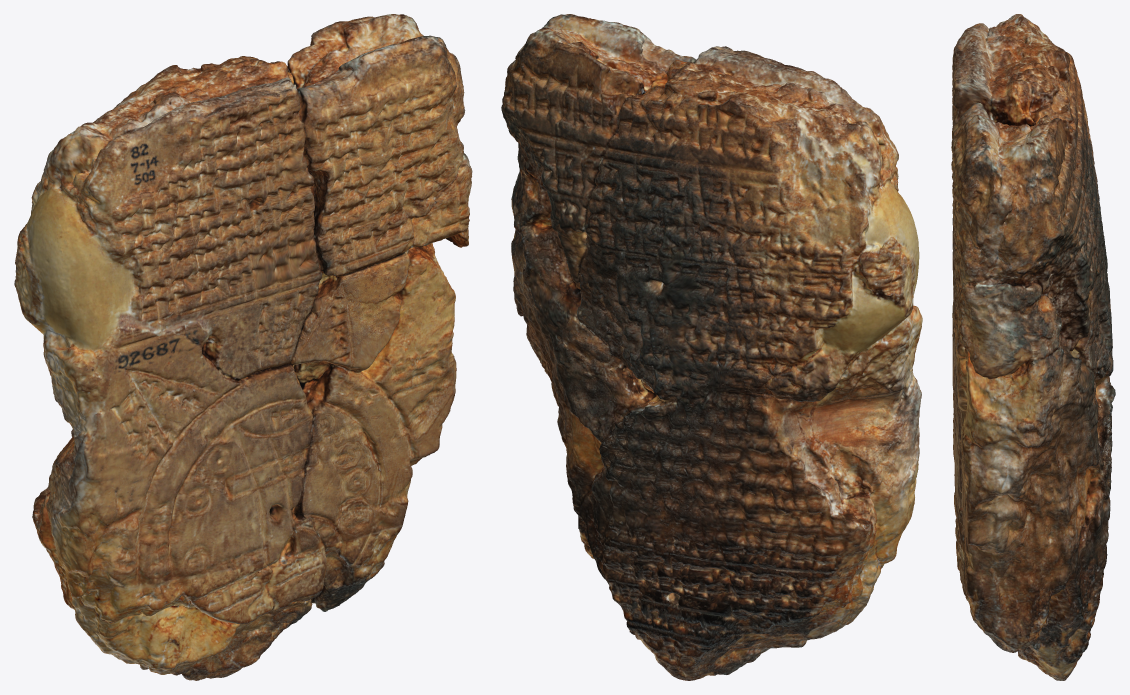
File: babylonian_map_of_the_world_tablet_-_imago_mundi.glb
The picture shows the model from 3 angles, left to right: view 1: azimuth 30°, elevation 25°; view 2: azimuth 150°, elevation 25°; view 3: azimuth 270°, elevation 25°; orthographic projection. The views are drawn at different scales.
Visible parts, largest first — view 1: Object_2, Object_3, Object_4, Object_6, Object_5; view 2: Object_5, Object_6, Object_4, Object_2, Object_3; view 3: Object_4, Object_5, Object_3, Object_6, Object_2.
Part boxes in pixels (x1,y1,x2,y2): Object_2: (26,14,463,651); Object_3: (35,14,472,677); Object_4: (14,15,471,680); Object_6: (15,14,434,679); Object_5: (20,23,433,680); Object_5: (502,29,913,680); Object_6: (503,28,911,678); Object_4: (501,14,920,668); Object_2: (515,17,921,636); Object_3: (539,14,922,680); Object_4: (965,14,1095,657); Object_5: (1008,23,1115,680); Object_3: (953,24,1099,673); Object_6: (1015,21,1114,680); Object_2: (951,23,1072,487).
Size of the model in its own units: 85.17 by 121 by 29.36.
1 material, 1 textured.
